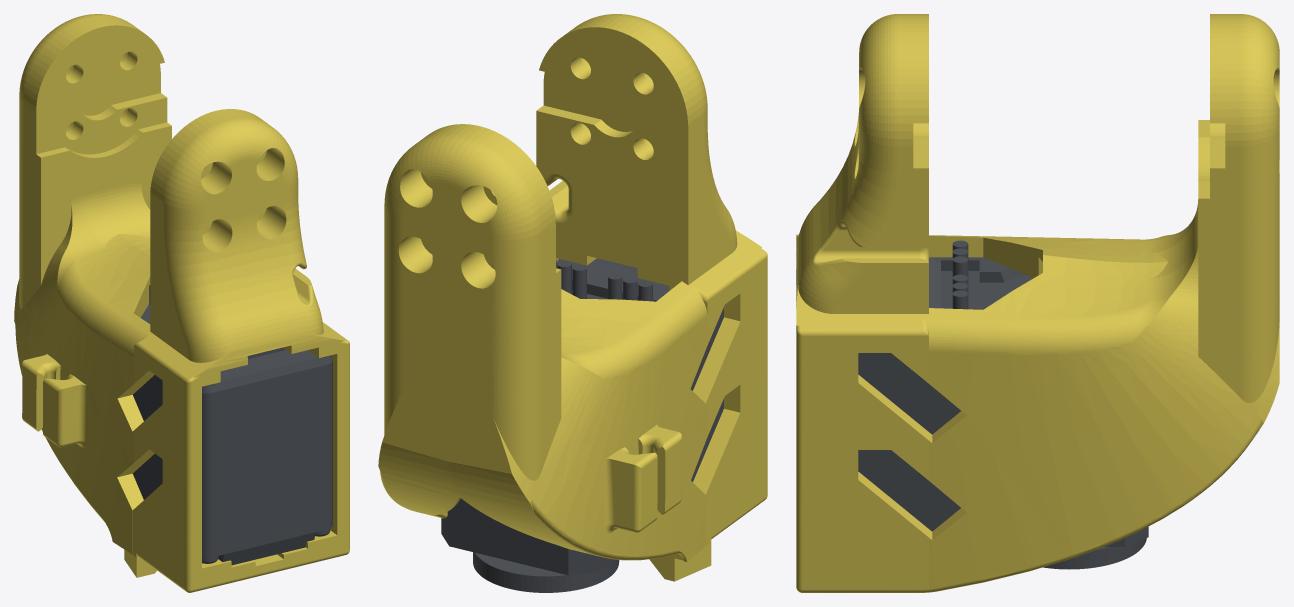
Rendered from wrist_link.glb.
3 renders of one model, left to right at view 1: azimuth 30°, elevation 25°; view 2: azimuth 150°, elevation 25°; view 3: azimuth 270°, elevation 25°, orthographic. The views are drawn at different scales.
Parts seen in each view (by area): view 1: wrist_link_1, wrist_link_0; view 2: wrist_link_1, wrist_link_0; view 3: wrist_link_1, wrist_link_0.
Part boxes in pixels (x1=…): wrist_link_1: x1=14, y1=14, x2=349, y2=592; wrist_link_0: x1=132, y1=285, x2=332, y2=565; wrist_link_1: x1=378, y1=14, x2=767, y2=581; wrist_link_0: x1=441, y1=258, x2=723, y2=592; wrist_link_1: x1=796, y1=14, x2=1279, y2=592; wrist_link_0: x1=796, y1=240, x2=1148, y2=569.
Bounding box in the file's own units: 0.0357 × 0.0778 × 0.0623.
